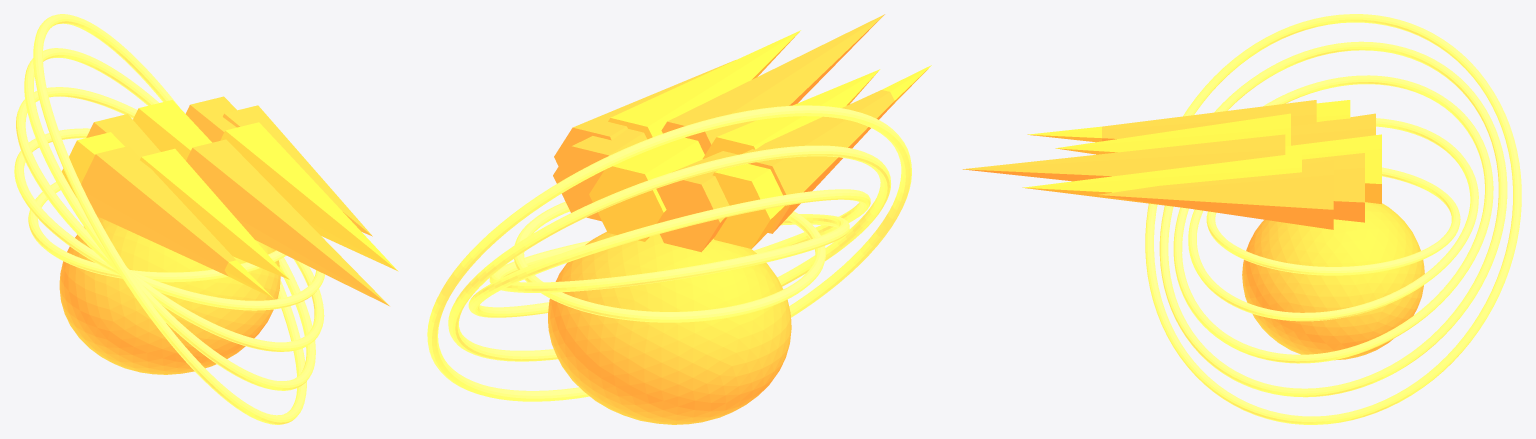
Rendered from ember.glb.
The picture shows the model from 3 angles, left to right: view 1: azimuth 30°, elevation 25°; view 2: azimuth 150°, elevation 25°; view 3: azimuth 270°, elevation 25°; orthographic projection. The views are drawn at different scales.
Parts seen in each view (by area): view 1: ember_part_000, ember_part_003, ember_part_005, ember_part_014, ember_part_013, ember_part_002, ember_part_012, ember_part_004, ember_part_011, ember_part_008, ember_part_010, ember_part_001 (+3 smaller); view 2: ember_part_000, ember_part_014, ember_part_013, ember_part_012, ember_part_003, ember_part_005, ember_part_011, ember_part_008, ember_part_010, ember_part_002, ember_part_006, ember_part_007 (+3 smaller); view 3: ember_part_000, ember_part_014, ember_part_013, ember_part_001, ember_part_012, ember_part_003, ember_part_011, ember_part_002, ember_part_004, ember_part_010, ember_part_005, ember_part_008 (+3 smaller).
Boxes of the visible parts, x1=… form: ember_part_000: x1=59, y1=216, x2=280, y2=374; ember_part_003: x1=186, y1=139, x2=389, y2=306; ember_part_005: x1=81, y1=146, x2=235, y2=275; ember_part_014: x1=33, y1=14, x2=306, y2=424; ember_part_013: x1=24, y1=48, x2=315, y2=390; ember_part_002: x1=220, y1=122, x2=398, y2=271; ember_part_012: x1=16, y1=87, x2=324, y2=351; ember_part_004: x1=140, y1=148, x2=289, y2=279; ember_part_011: x1=14, y1=128, x2=324, y2=310; ember_part_008: x1=133, y1=100, x2=211, y2=160; ember_part_010: x1=28, y1=182, x2=286, y2=282; ember_part_001: x1=223, y1=105, x2=372, y2=236; ember_part_000: x1=548, y1=231, x2=791, y2=424; ember_part_014: x1=427, y1=105, x2=911, y2=401; ember_part_013: x1=448, y1=145, x2=890, y2=361; ember_part_012: x1=468, y1=189, x2=870, y2=317; ember_part_003: x1=661, y1=14, x2=884, y2=154; ember_part_005: x1=742, y1=90, x2=894, y2=233; ember_part_011: x1=489, y1=214, x2=849, y2=292; ember_part_008: x1=589, y1=137, x2=704, y2=241; ember_part_010: x1=514, y1=201, x2=825, y2=322; ember_part_002: x1=608, y1=30, x2=800, y2=139; ember_part_006: x1=712, y1=65, x2=931, y2=248; ember_part_007: x1=656, y1=151, x2=737, y2=252; ember_part_000: x1=1242, y1=202, x2=1424, y2=360; ember_part_014: x1=1145, y1=14, x2=1521, y2=424; ember_part_013: x1=1159, y1=41, x2=1507, y2=397; ember_part_001: x1=1098, y1=160, x2=1333, y2=229; ember_part_012: x1=1173, y1=75, x2=1493, y2=363; ember_part_003: x1=962, y1=134, x2=1285, y2=181; ember_part_011: x1=1188, y1=118, x2=1478, y2=321; ember_part_002: x1=1022, y1=153, x2=1301, y2=207; ember_part_004: x1=1055, y1=113, x2=1290, y2=154; ember_part_010: x1=1206, y1=167, x2=1460, y2=275; ember_part_005: x1=1102, y1=100, x2=1316, y2=141; ember_part_008: x1=1285, y1=134, x2=1381, y2=204.
Bounding box in the file's own units: 1.47 × 1.65 × 2.65.
